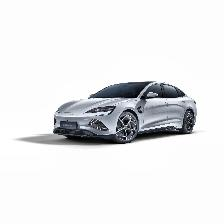EV: (54, 82, 198, 144)
